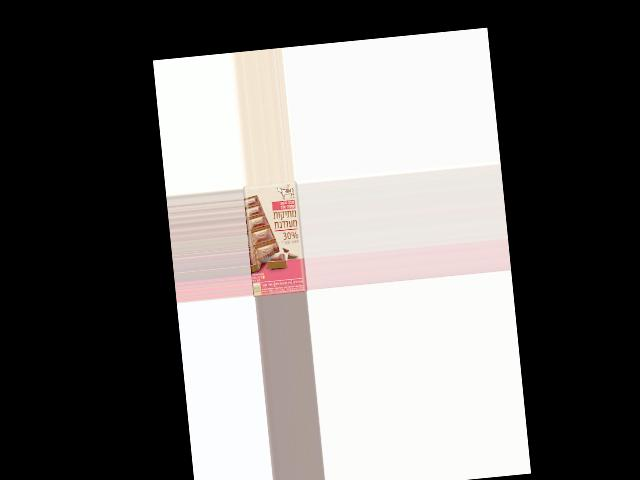chocolate: (242, 180, 308, 296)
